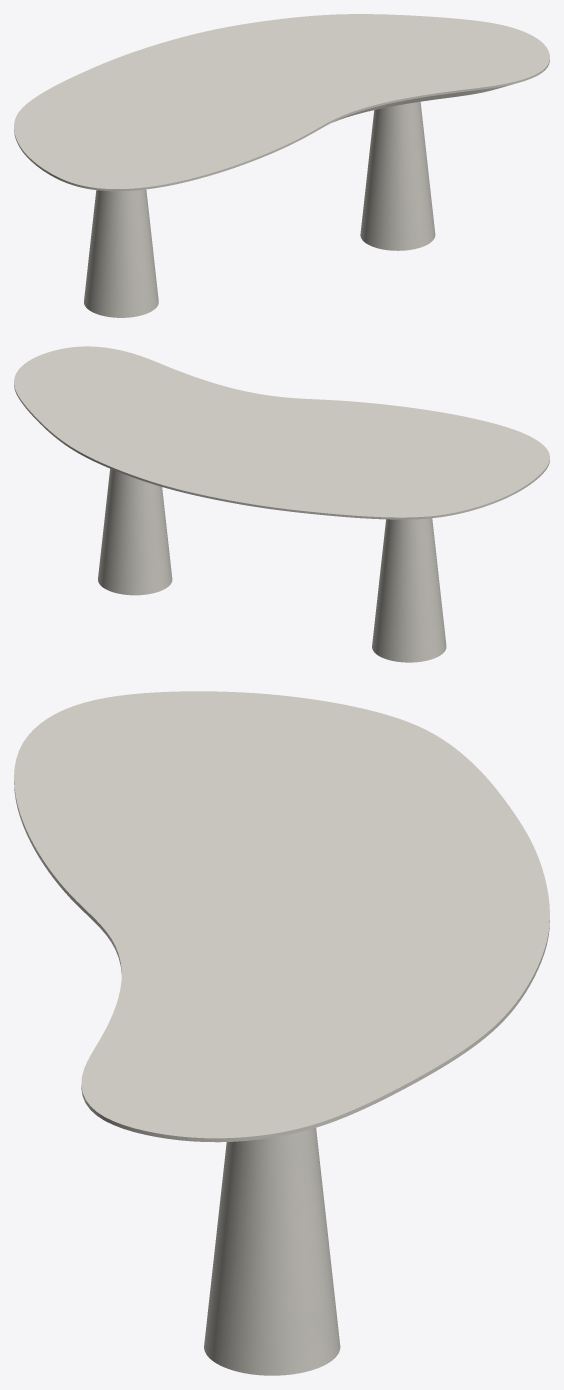
Rendered from pale_leaf1_facet_pebble.glb.
3 renders of one model, top to bottom at view 1: azimuth 30°, elevation 25°; view 2: azimuth 150°, elevation 25°; view 3: azimuth 270°, elevation 25°, orthographic. The views are drawn at different scales.
Parts seen in each view (by area): view 1: facet_leaf1, pebble; view 2: facet_leaf1, pebble; view 3: facet_leaf1, pebble.
Part boxes in pixels (<box>): facet_leaf1: <box>14,14,549,191</box>; pebble: <box>84,101,435,317</box>; facet_leaf1: <box>14,346,549,519</box>; pebble: <box>98,468,446,662</box>; facet_leaf1: <box>14,691,549,1142</box>; pebble: <box>204,1128,340,1375</box>.
Bounding box in the file's own units: 7.5 × 2.5 × 3.8.
1 material, 1 textured.
